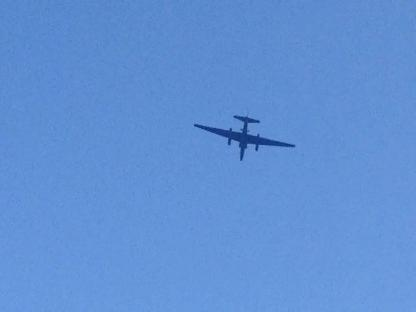Tu160: (194, 112, 294, 160)
